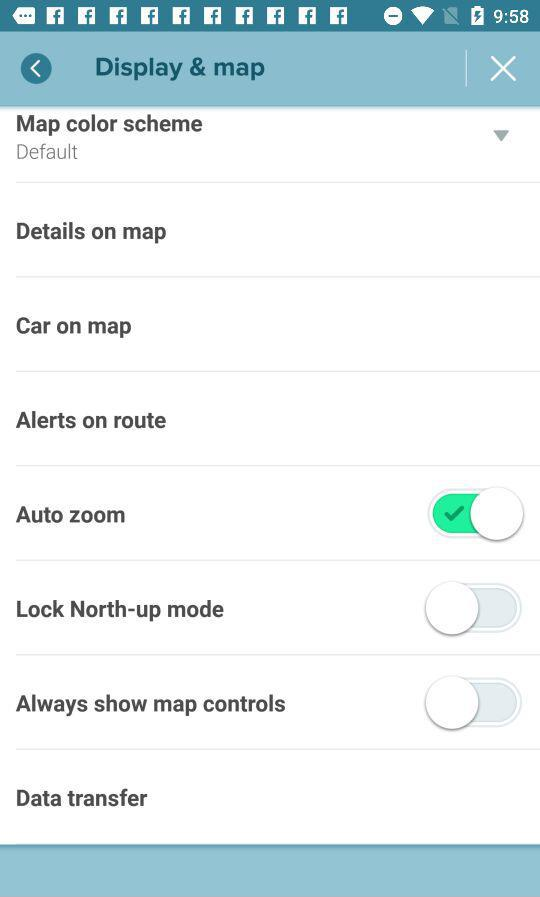Icon: (21, 53, 53, 86), (490, 55, 517, 83), (494, 131, 510, 143)
Switch: (424, 674, 523, 732), (425, 580, 523, 637), (427, 486, 525, 542)
Text: (16, 693, 286, 717), (18, 599, 225, 622), (17, 114, 203, 138), (97, 58, 265, 83), (17, 222, 167, 246), (16, 411, 168, 430), (16, 317, 132, 340), (17, 787, 149, 807), (16, 505, 126, 524), (17, 143, 79, 161)
Toolbar: (2, 33, 540, 108)
UpperTaskBar: (1, 1, 540, 33)
